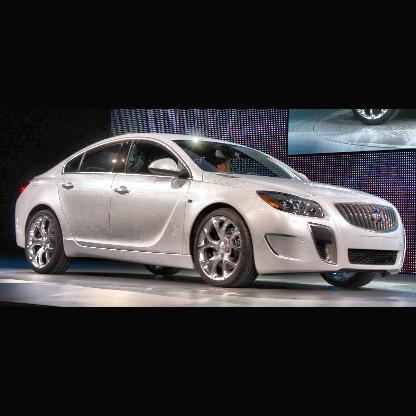Buick Regal GS 2012: (17, 133, 408, 286)
